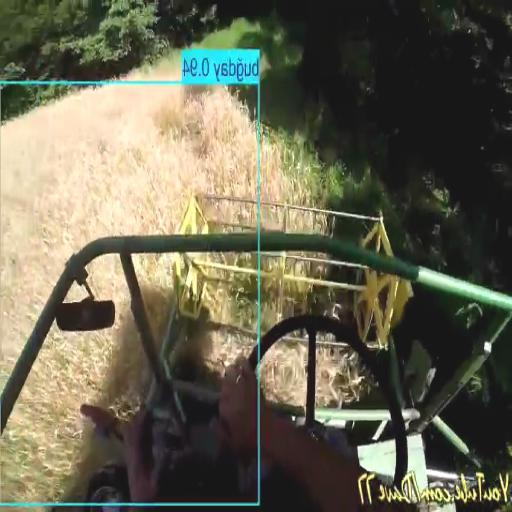bugday: (1, 86, 256, 385), (2, 256, 147, 499)
